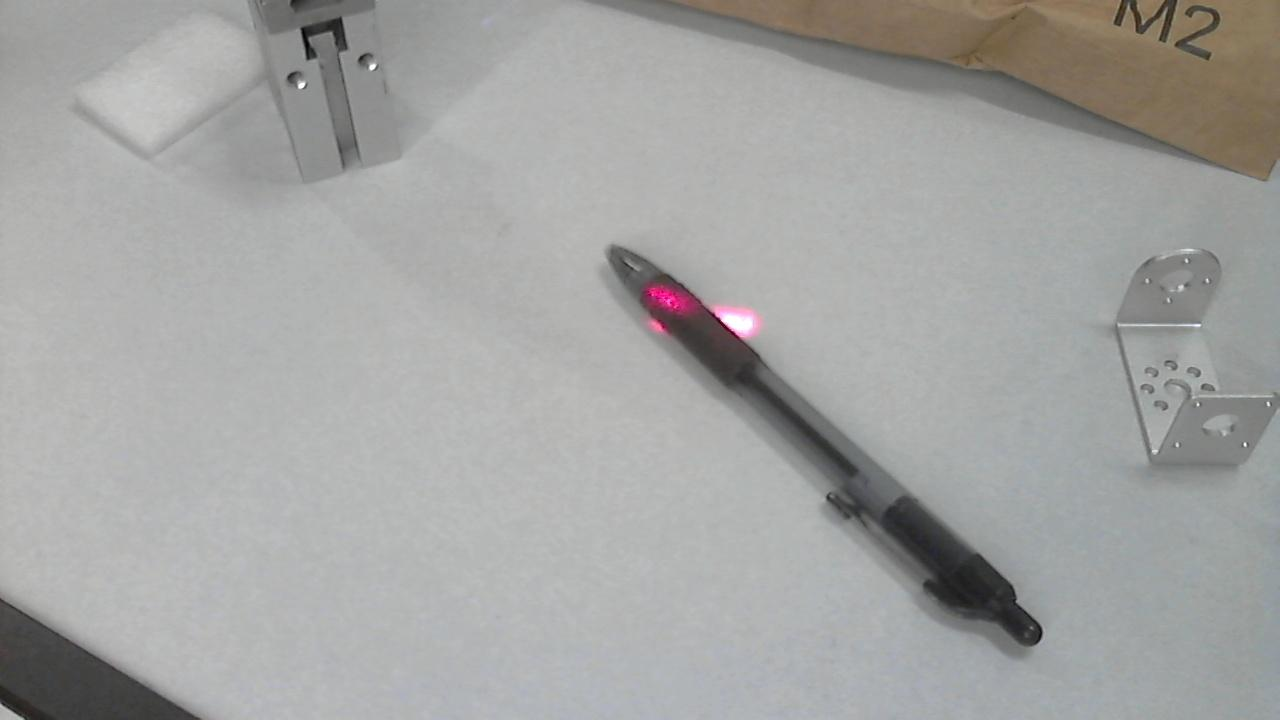Object retractable gel pen - Material rubber - Pdfname asdasdaswe: (635, 277, 710, 322)
